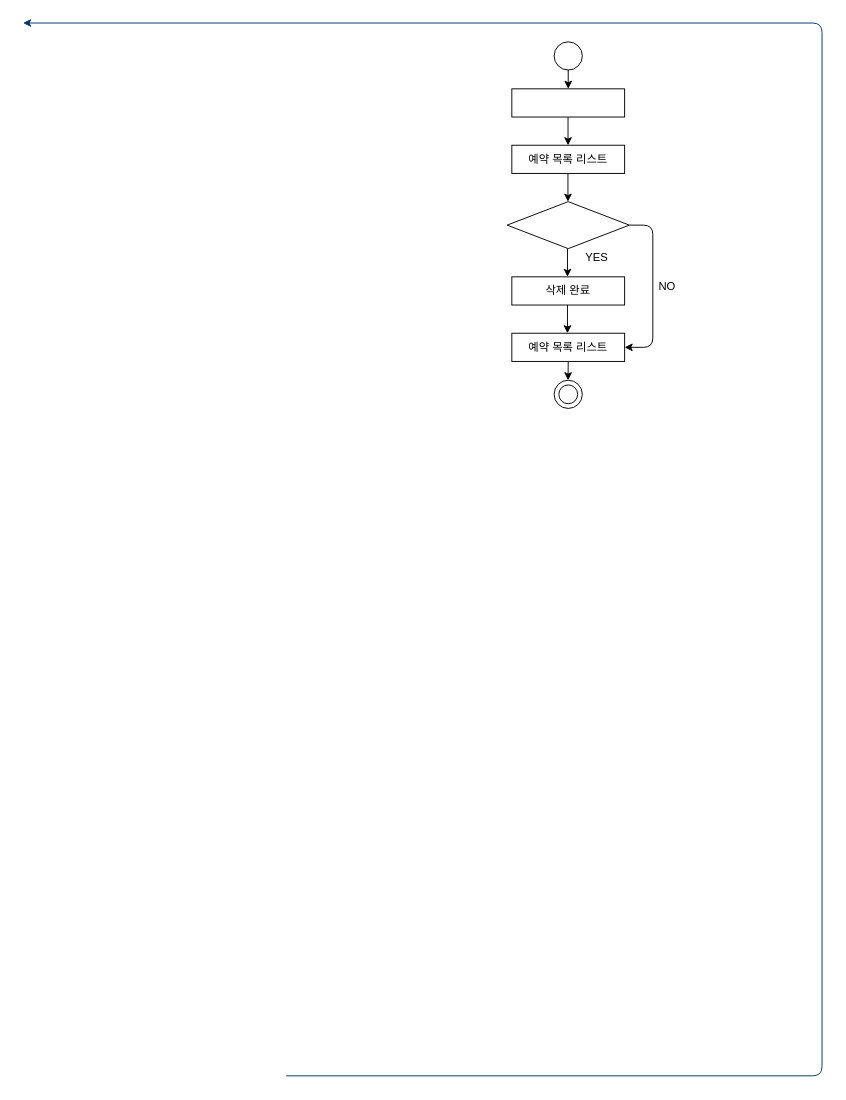
Image size: 846x1100. Some labels were removed from this diagram. Here are the shapes that lost their labels. From the top down, the centre of each, then its label:
pixel 568 102: 예약확인
pixel 567 225: 예약 삭제
